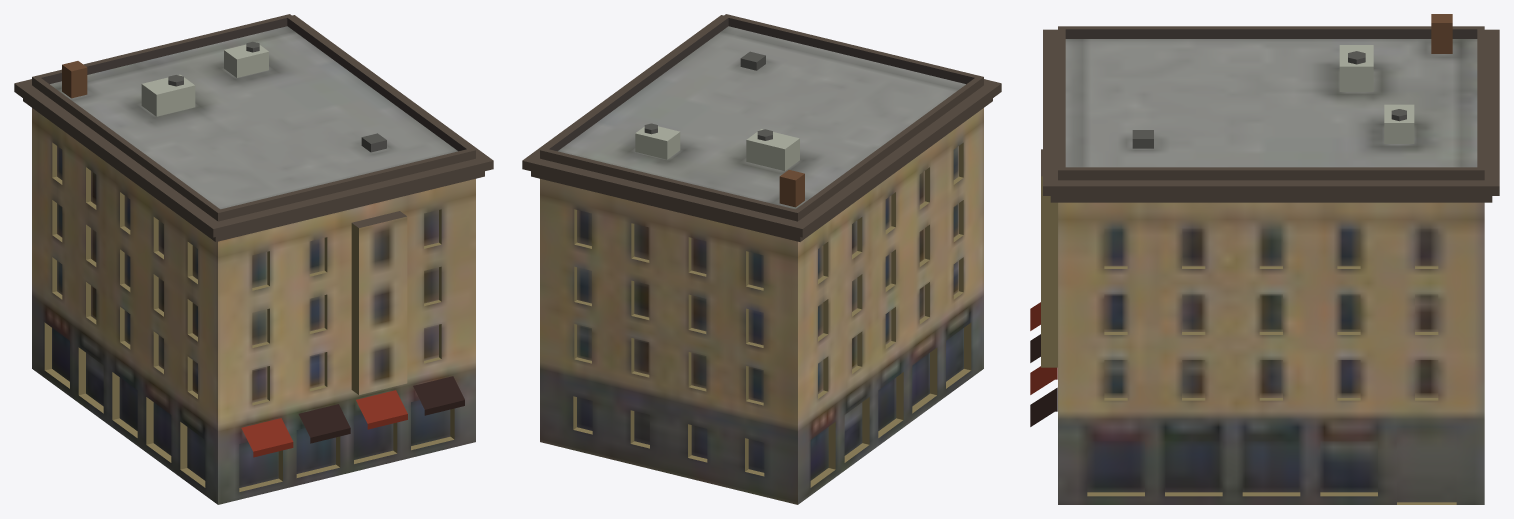
The model's file is dc_brick_corner_b.glb.
3 renders of one model, left to right at view 1: azimuth 30°, elevation 25°; view 2: azimuth 150°, elevation 25°; view 3: azimuth 270°, elevation 25°, orthographic. The views are drawn at different scales.
Parts seen in each view (by area): view 1: dc_brick_corner_b; view 2: dc_brick_corner_b; view 3: dc_brick_corner_b.
Part boxes in pixels (left/top/right/bottom): dc_brick_corner_b: left=14, top=14, right=493, bottom=504; dc_brick_corner_b: left=522, top=14, right=1001, bottom=504; dc_brick_corner_b: left=1030, top=14, right=1499, bottom=504.
Size of the model in its own units: 17.4 by 18.4 by 22.
Materials: 1 (1 with a texture image).
